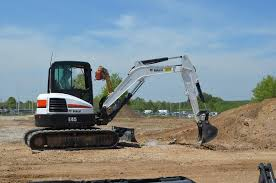excavator: (26, 52, 220, 151)
